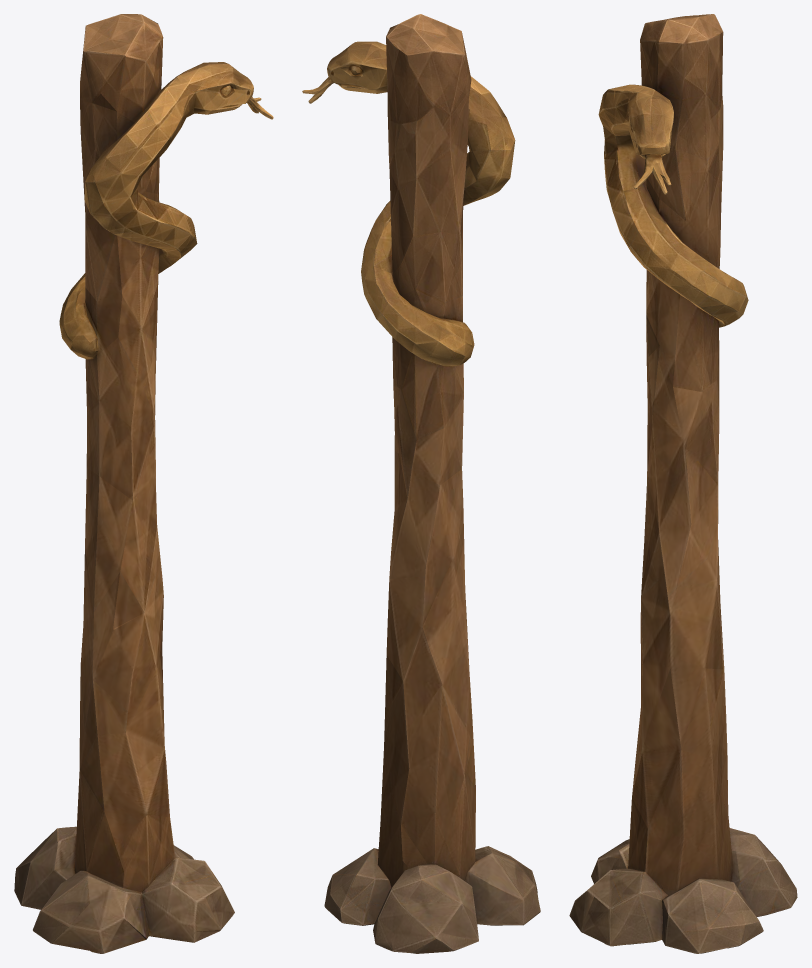
Rendered from bronze-serpent.glb.
3 renders of one model, left to right at view 1: azimuth 30°, elevation 25°; view 2: azimuth 150°, elevation 25°; view 3: azimuth 270°, elevation 25°, orthographic.
Bounding box in the file's own units: 0.507 × 1.9 × 0.4391.
1 material, 1 textured.
